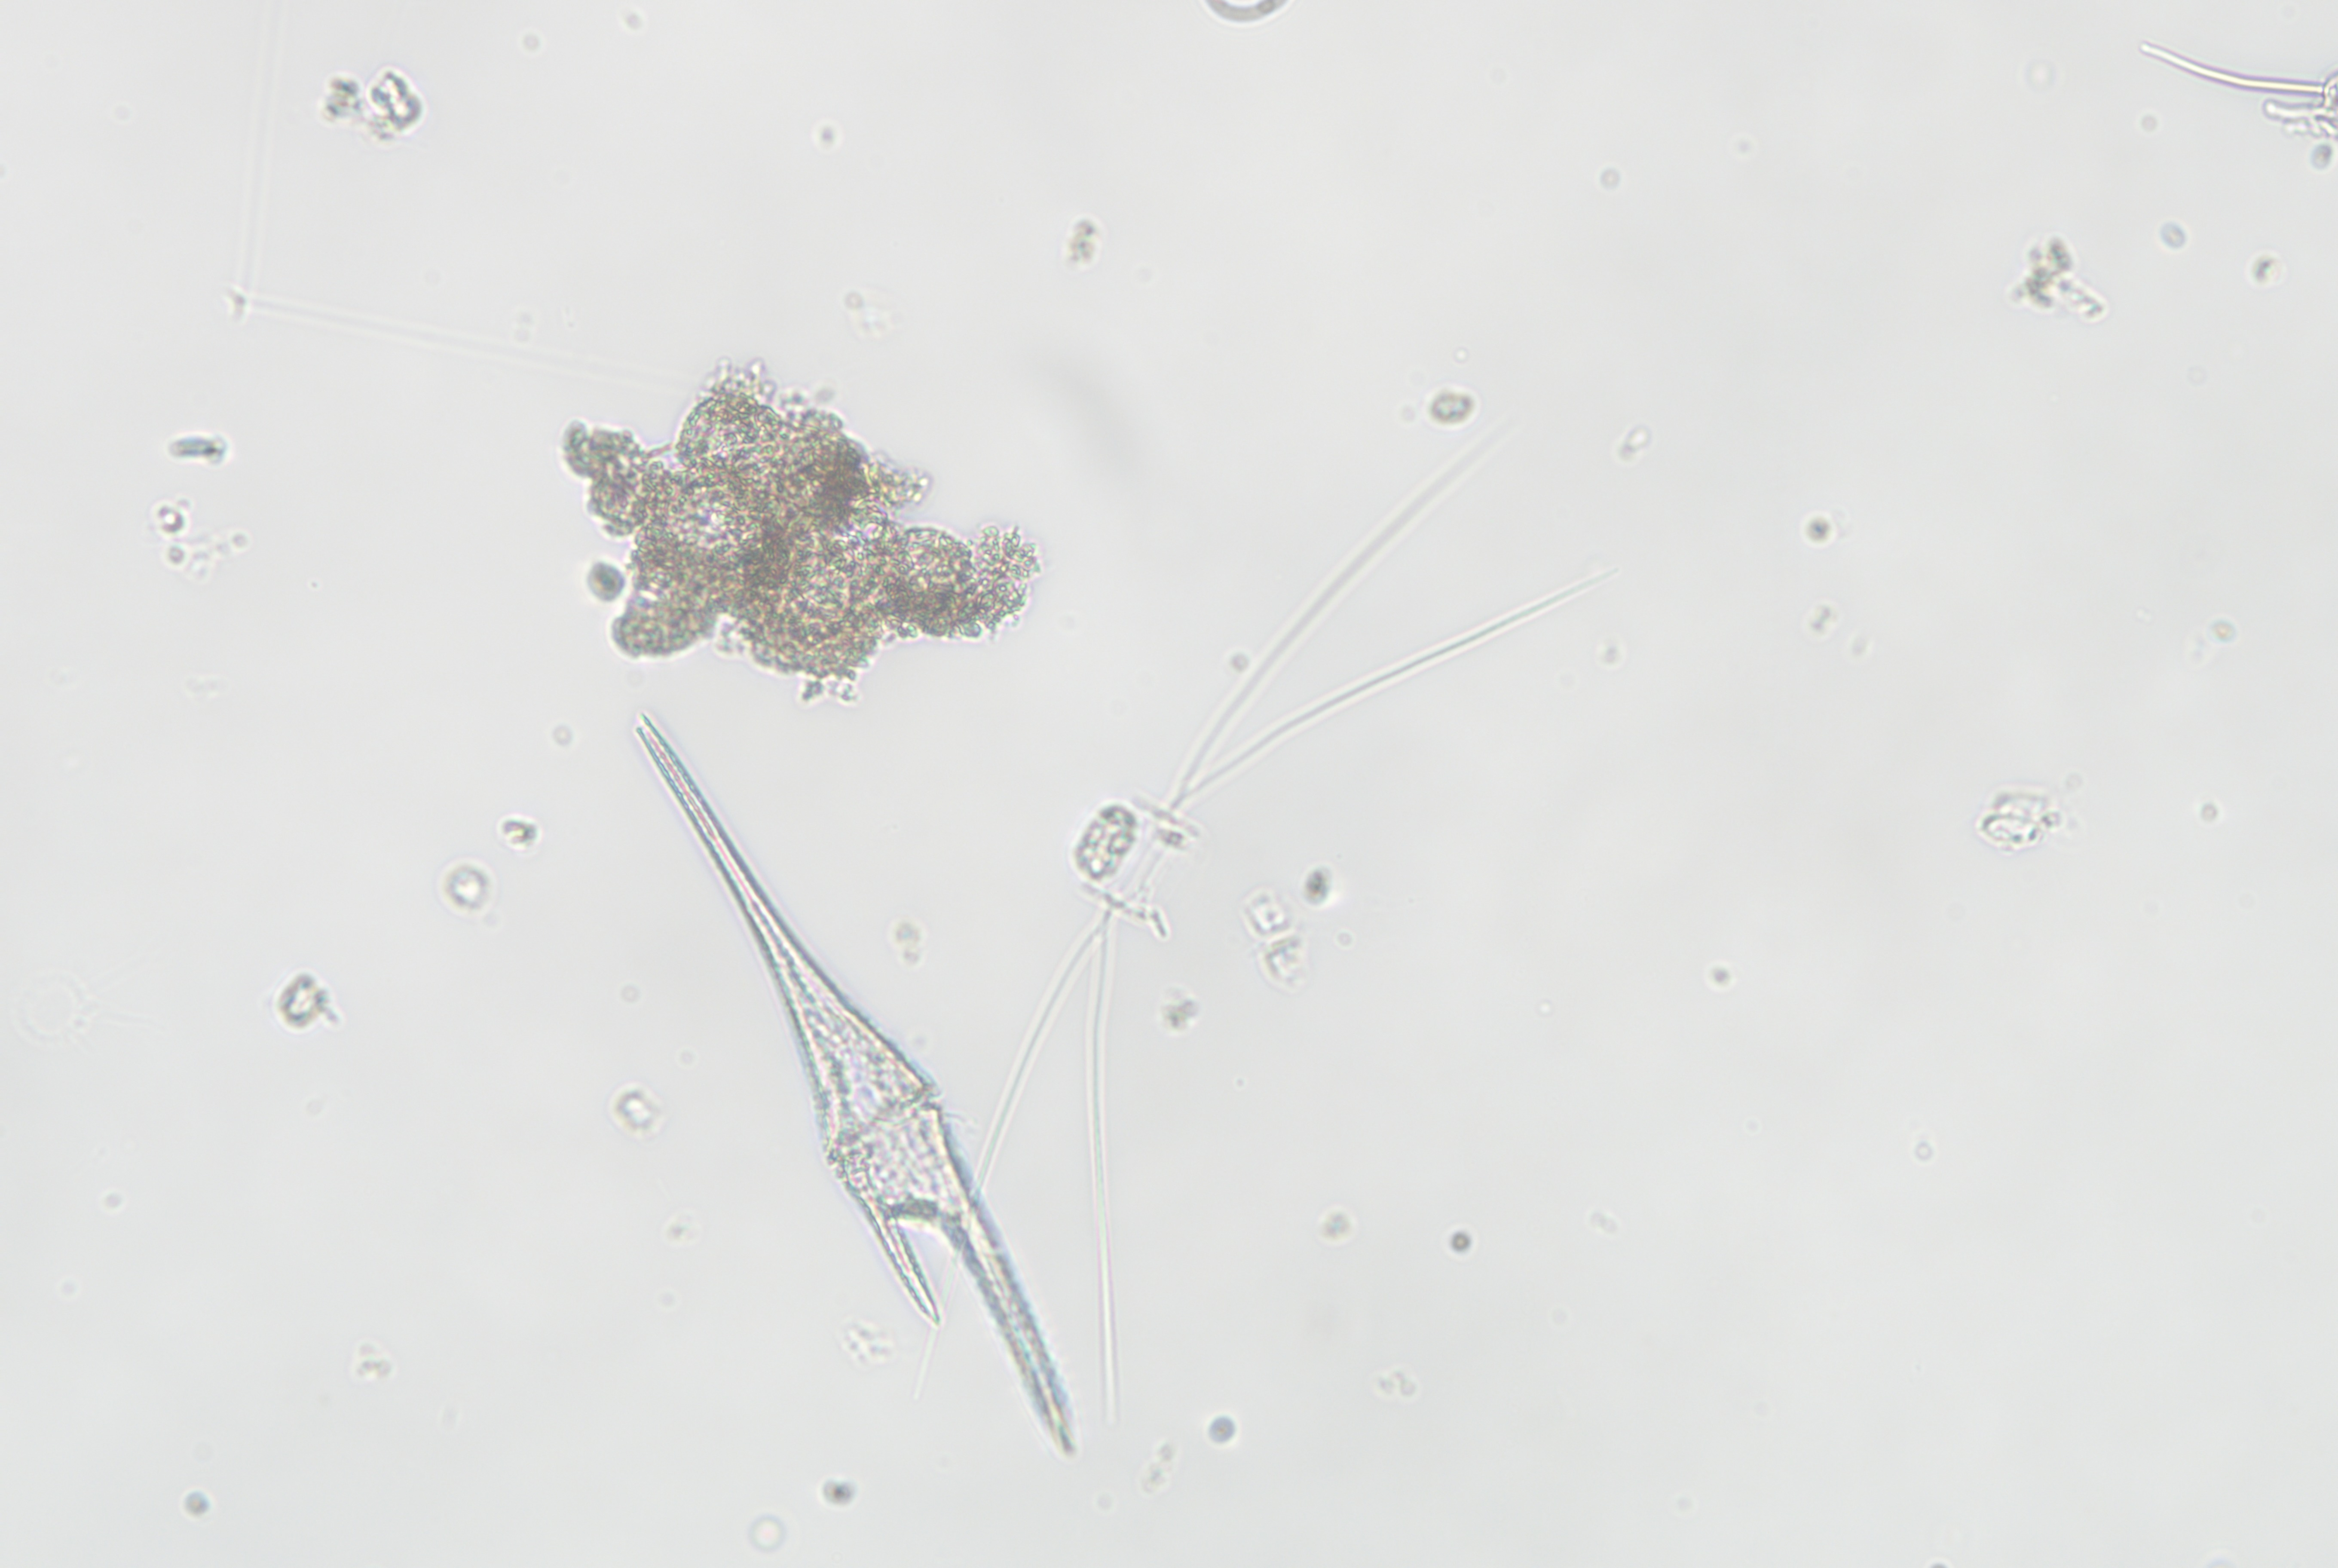ceratium furca: (606, 707, 1083, 1477)
chaetoceros: (999, 346, 1617, 1421)
